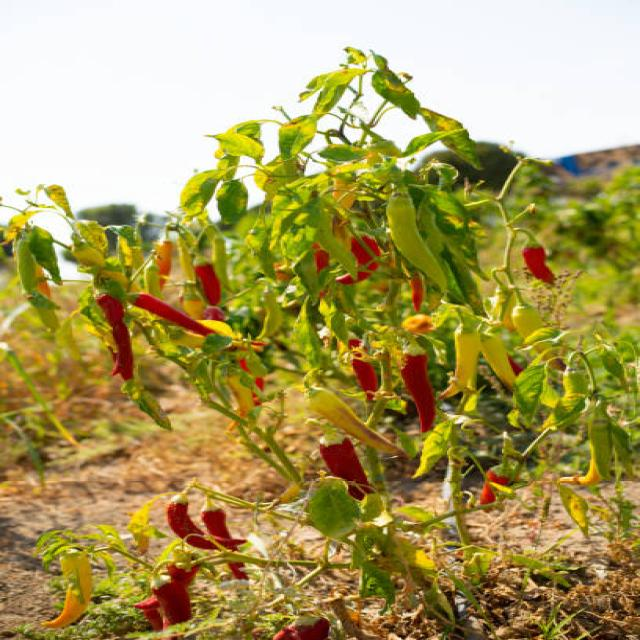Ripe: (166, 503, 253, 550), (135, 293, 212, 335), (320, 438, 372, 499), (97, 295, 132, 380), (400, 355, 435, 432), (152, 565, 196, 626)
Unripe: (309, 389, 398, 453), (387, 193, 444, 289), (42, 551, 91, 627), (441, 324, 478, 398), (482, 335, 516, 389)
